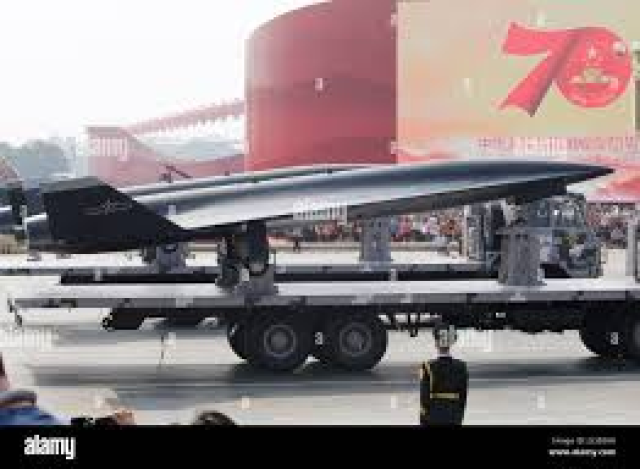military drone: (0, 159, 616, 277)
